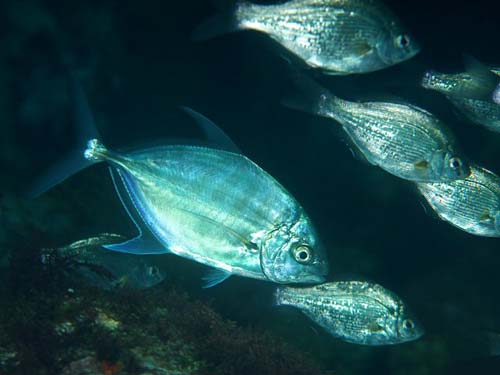fish: (85, 139, 330, 286), (281, 72, 471, 182), (192, 1, 423, 74), (269, 281, 424, 345)
